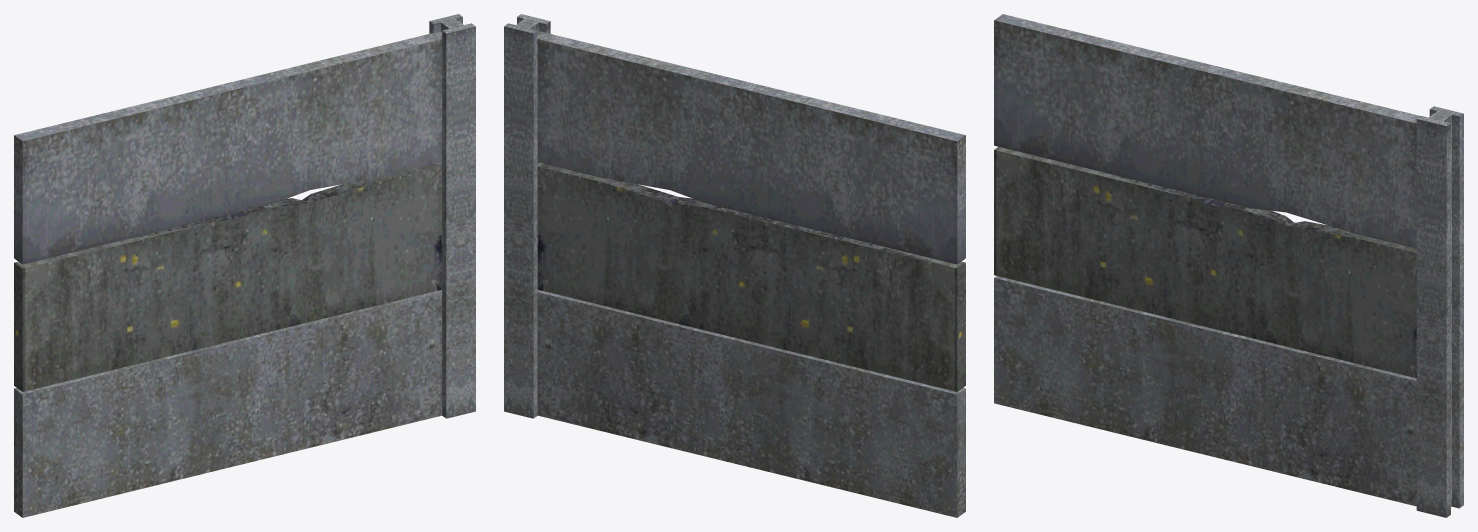
File: Urban_PlackardOpen_Model.fbx
3 views of the same model, side by side, from view 1: azimuth 30°, elevation 25°; view 2: azimuth 150°, elevation 25°; view 3: azimuth 330°, elevation 25° (orthographic).
Visible parts, largest first — view 1: Urban_PlackardOpen_Mesh; view 2: Urban_PlackardOpen_Mesh; view 3: Urban_PlackardOpen_Mesh.
Part boxes in pixels (x1=…): Urban_PlackardOpen_Mesh: x1=14, y1=14, x2=475, y2=517; Urban_PlackardOpen_Mesh: x1=504, y1=14, x2=965, y2=517; Urban_PlackardOpen_Mesh: x1=994, y1=14, x2=1463, y2=517.
Bounding box in the file's own units: 3.05 × 2.5 × 0.2.
